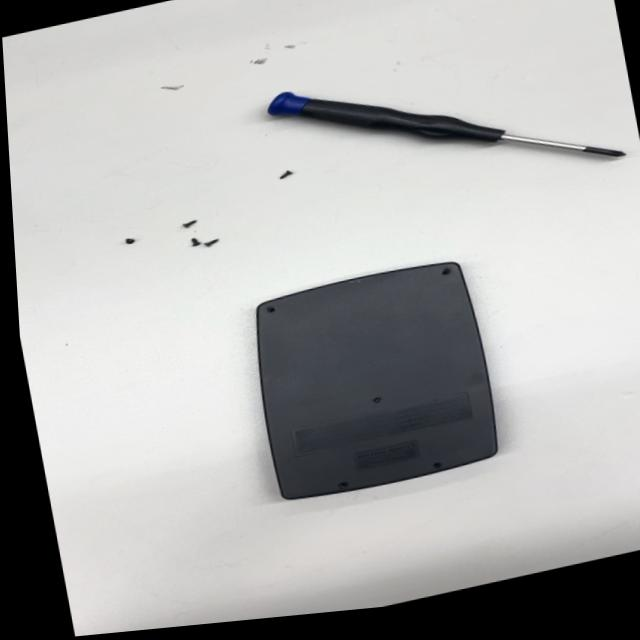back_cover: (235, 250, 509, 516)
screw: (174, 216, 202, 237), (272, 160, 295, 182), (178, 232, 205, 249), (118, 233, 139, 252), (205, 236, 223, 248)
screw_driver: (258, 15, 631, 236)
